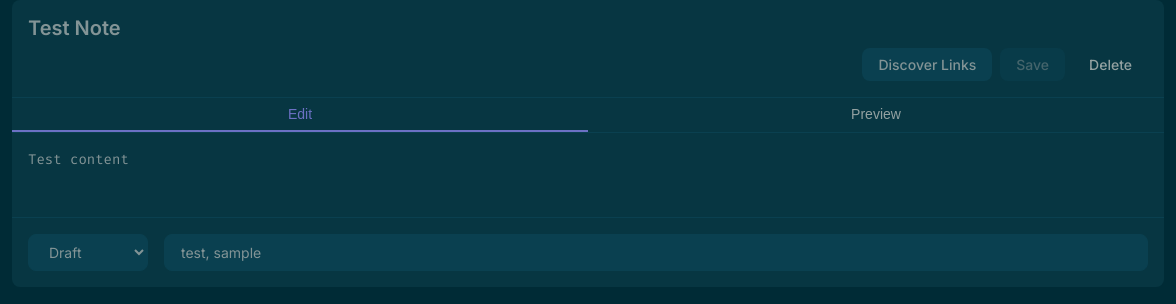
Test: NoteEditor › Save Functionality › resets dirty state after successful save
The width and height of the screenshot is (1176, 304).
Replace the text in the field with class "title-input" with "Updated" at point(588, 28), box [28,16,1148,40]
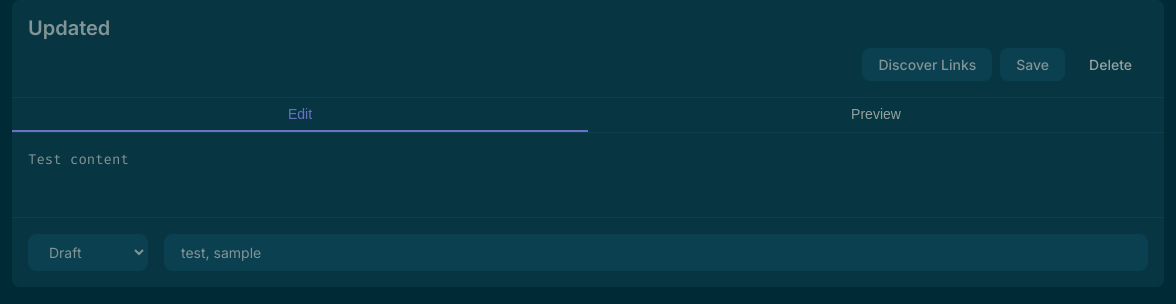
Click the button "Save" at point(1033, 64), box [1000,48,1065,81]
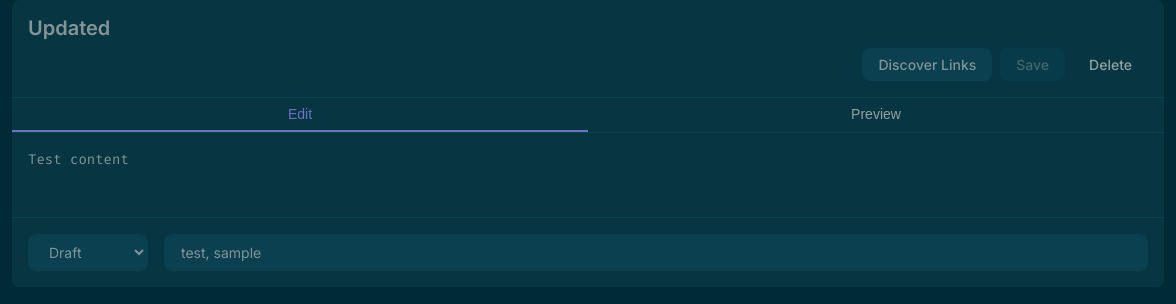
Now the button "Save" is disabled, box [1000,48,1065,81]
